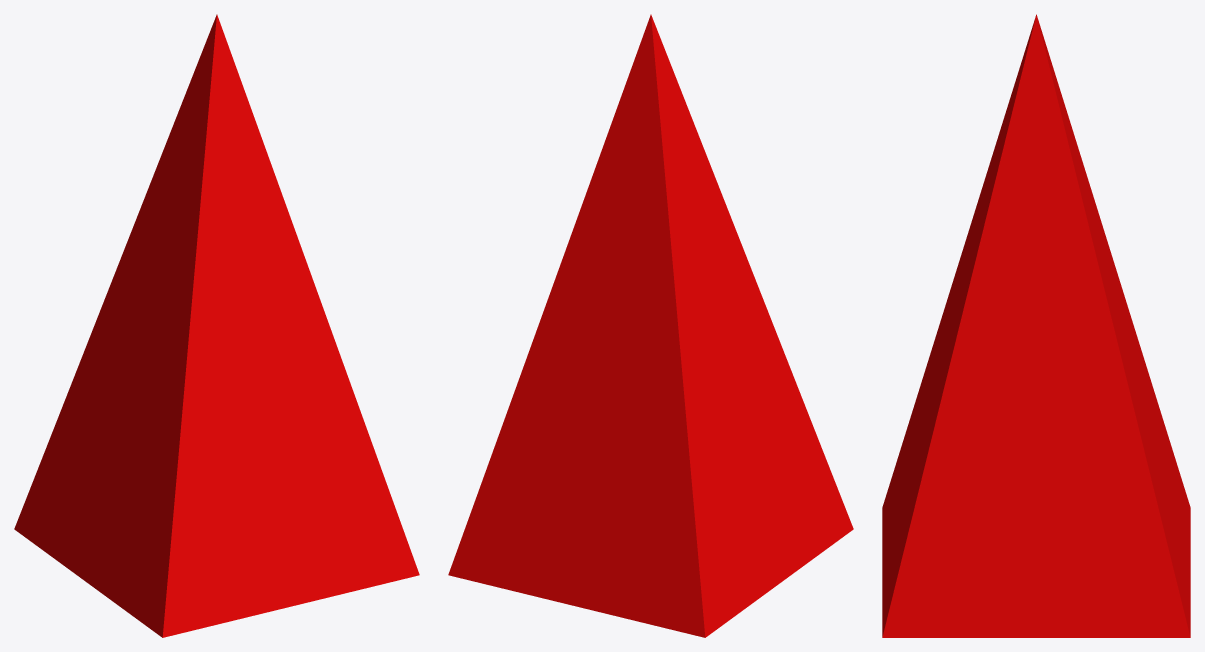
Rendered from SM_RockPyramid02.FBX.
The picture shows the model from 3 angles, left to right: view 1: azimuth 30°, elevation 25°; view 2: azimuth 150°, elevation 25°; view 3: azimuth 270°, elevation 25°; orthographic projection. The views are drawn at different scales.
Visible parts, largest first — view 1: Pyramid001; view 2: Pyramid001; view 3: Pyramid001.
Part boxes in pixels (x1,y1,x2,y2): Pyramid001: (14, 14, 419, 637); Pyramid001: (448, 14, 853, 637); Pyramid001: (882, 14, 1190, 637).
Bounding box in the file's own units: 40 × 80 × 40.
